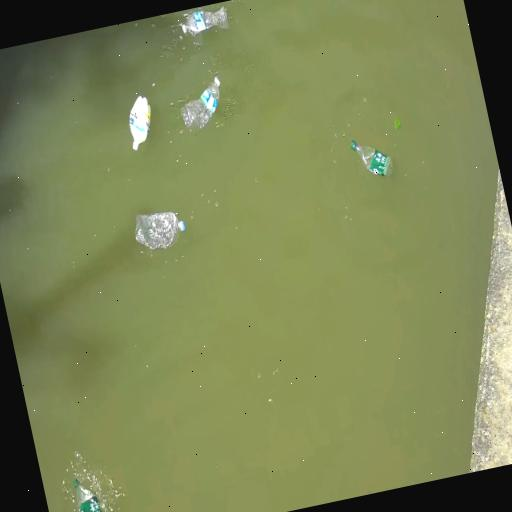plastic: (174, 73, 226, 135), (130, 204, 188, 256), (349, 132, 397, 184), (120, 88, 158, 152), (70, 472, 111, 512), (178, 4, 228, 36)
